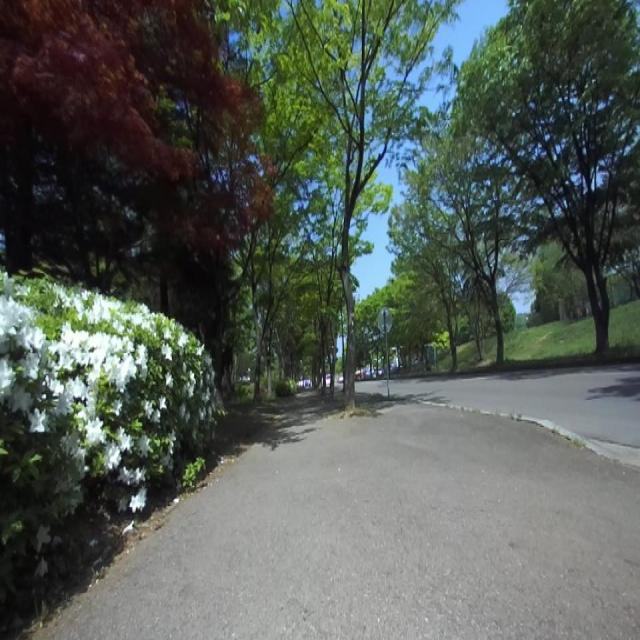sidewalk: (38, 407, 640, 639)
